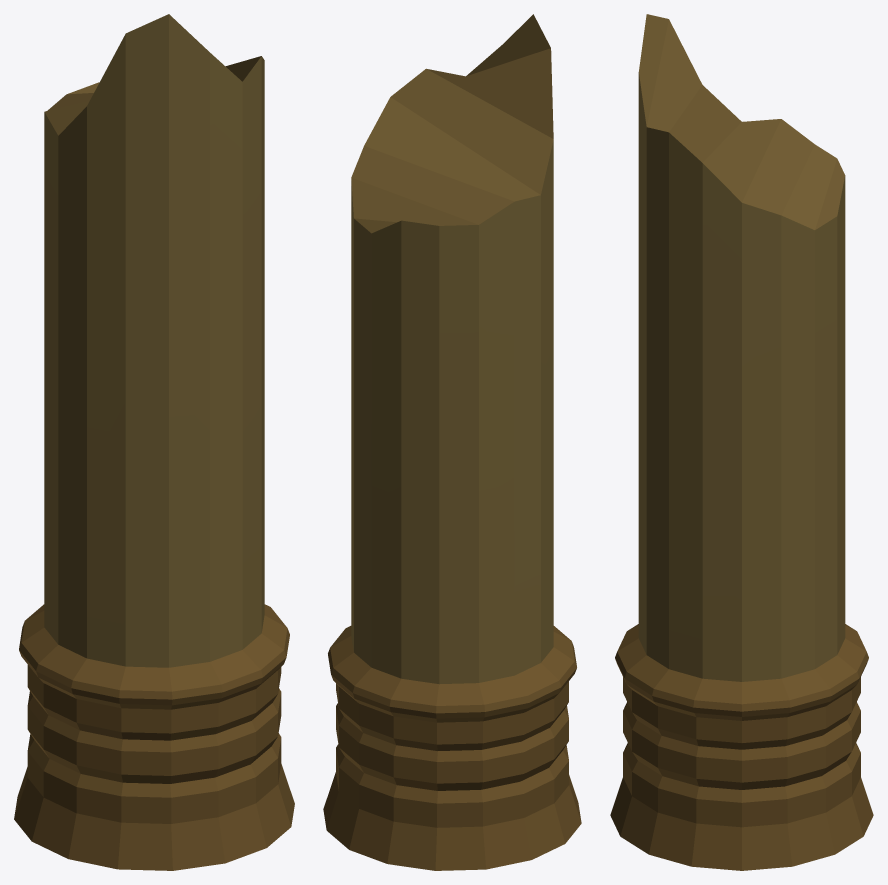
Rendered from SM_Pillar2.fbx.
The picture shows the model from 3 angles, left to right: view 1: azimuth 30°, elevation 25°; view 2: azimuth 150°, elevation 25°; view 3: azimuth 270°, elevation 25°; orthographic projection. The views are drawn at different scales.
Visible parts, largest first — view 1: SM_Pillar2; view 2: SM_Pillar2; view 3: SM_Pillar2.
Part boxes in pixels (left/top/right/bottom): SM_Pillar2: left=14, top=14, right=294, bottom=870; SM_Pillar2: left=323, top=14, right=581, bottom=870; SM_Pillar2: left=610, top=14, right=873, bottom=870.
Size of the model in its own units: 221 by 728 by 221.
